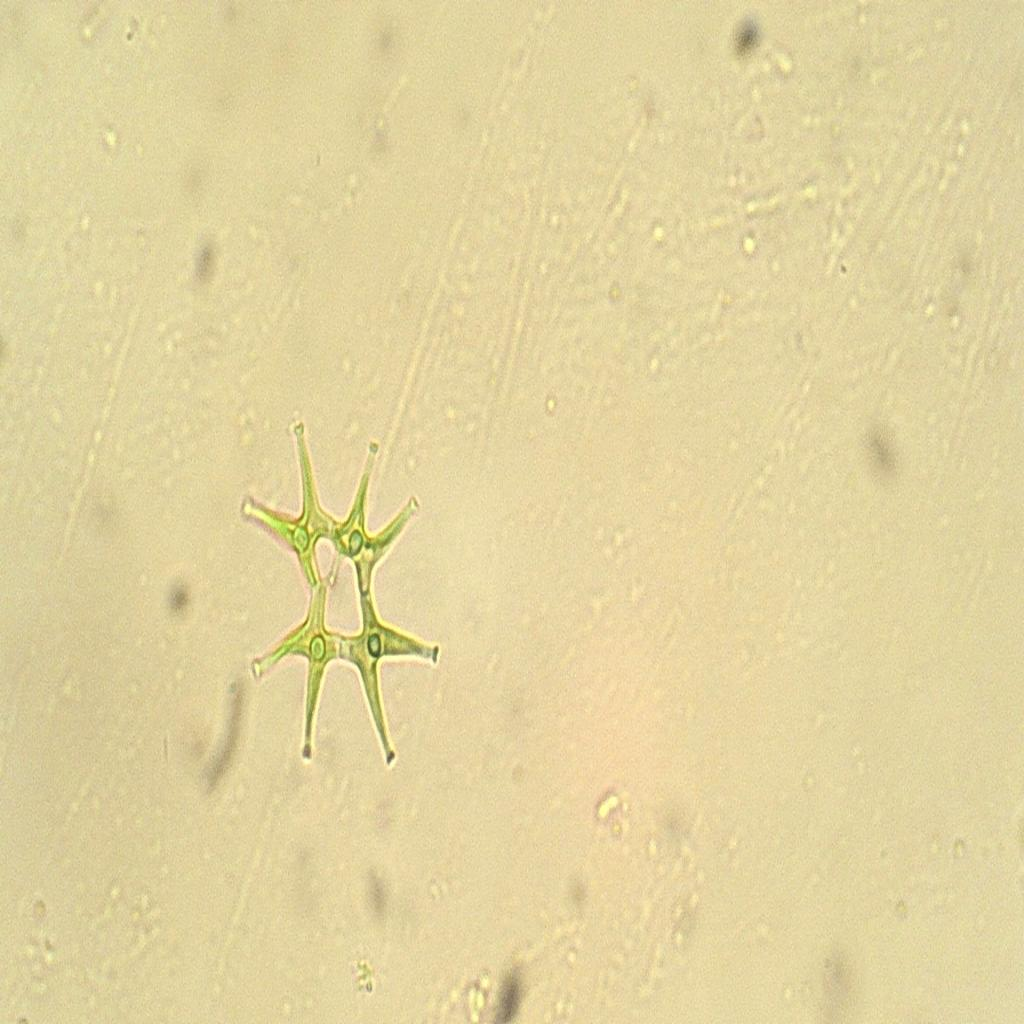Pediastrum_75FO: (228, 387, 450, 800)
